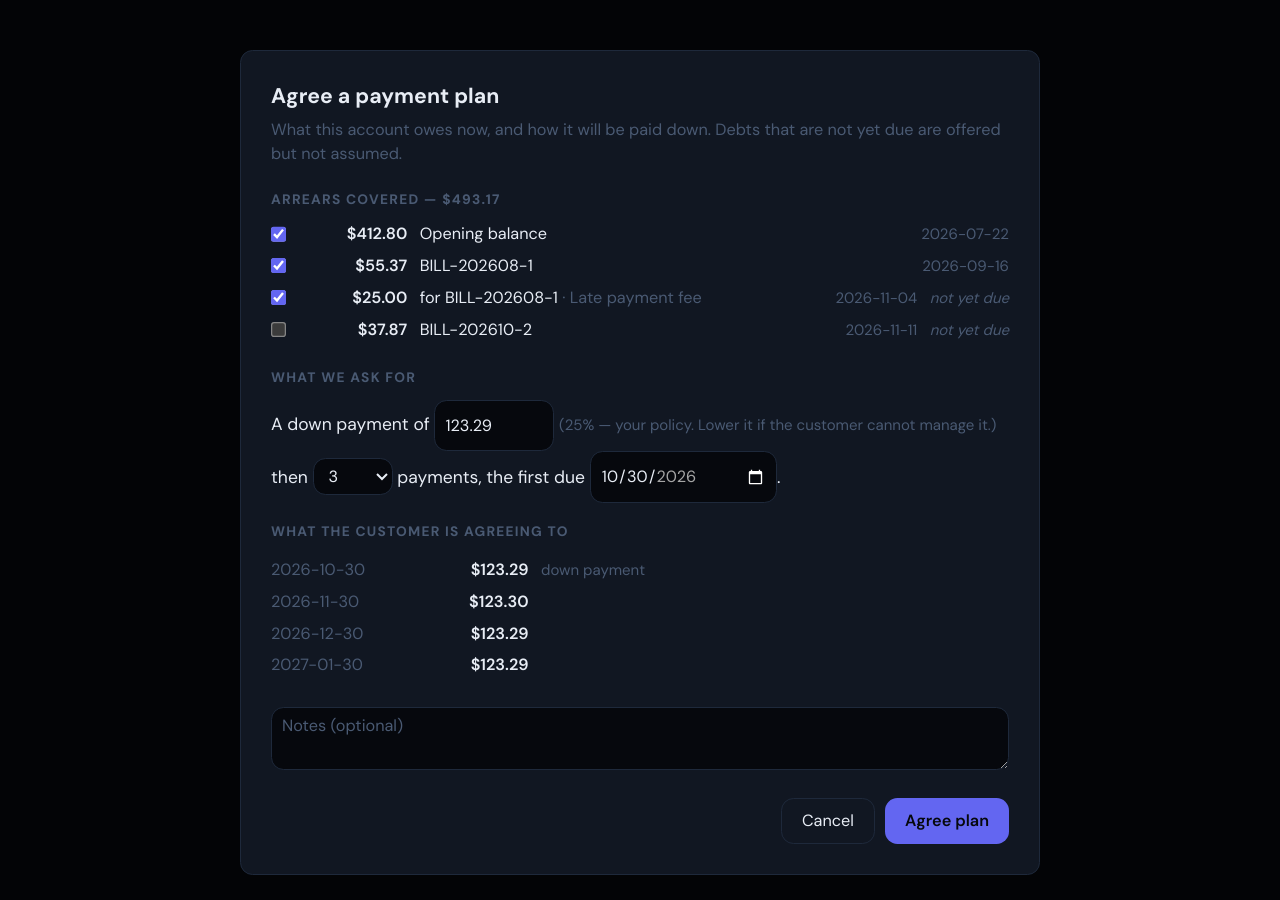
Test: agree plan dialog › recomputes the total and the down payment when a debt is unticked
What coordinates should you click on to do the following:
click the checkbox named "debt-e-1"
I would click on:
 (279, 234)
Its box is [271, 226, 287, 243].
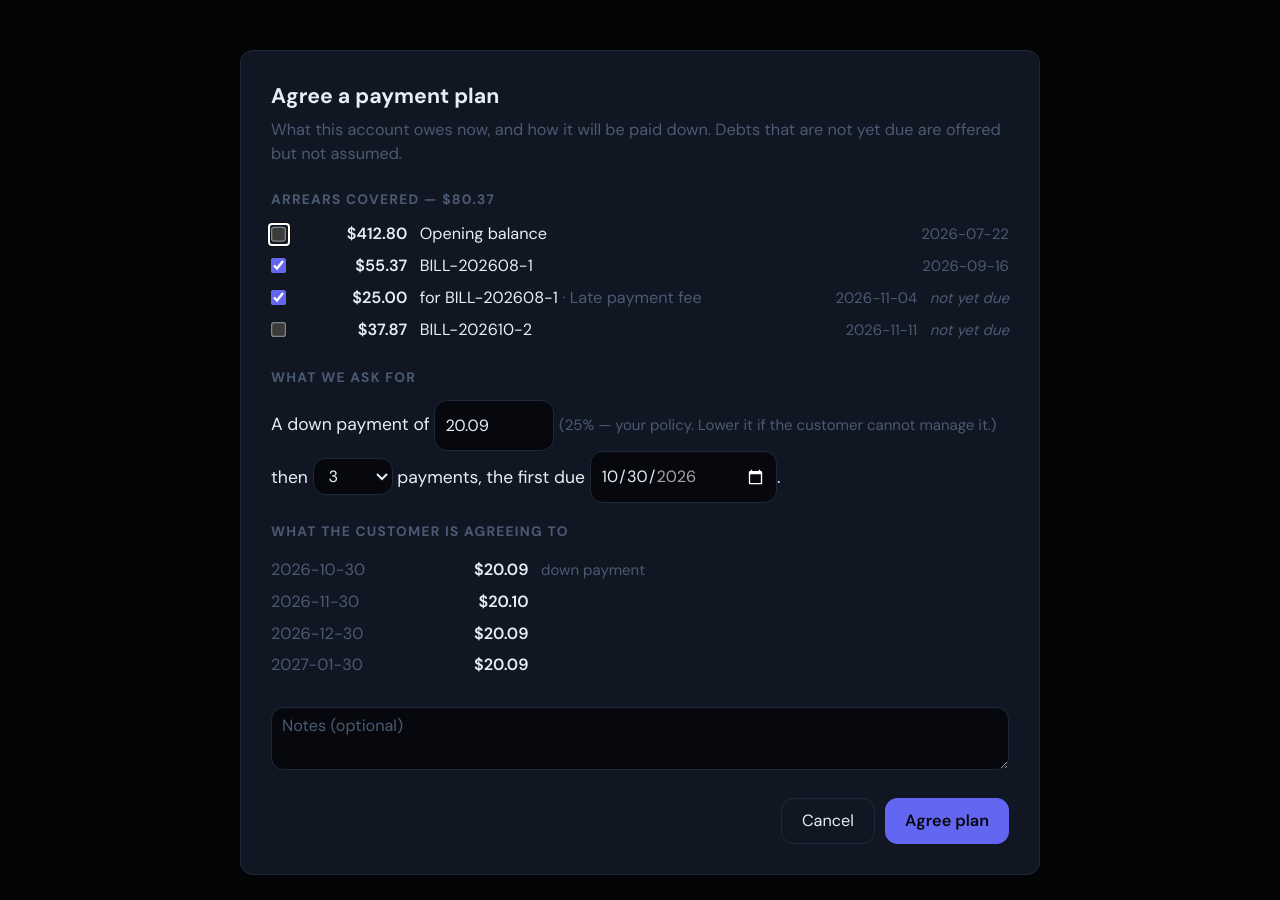
Now the number field named "down payment" holds "20.09", box [434, 400, 554, 451]
